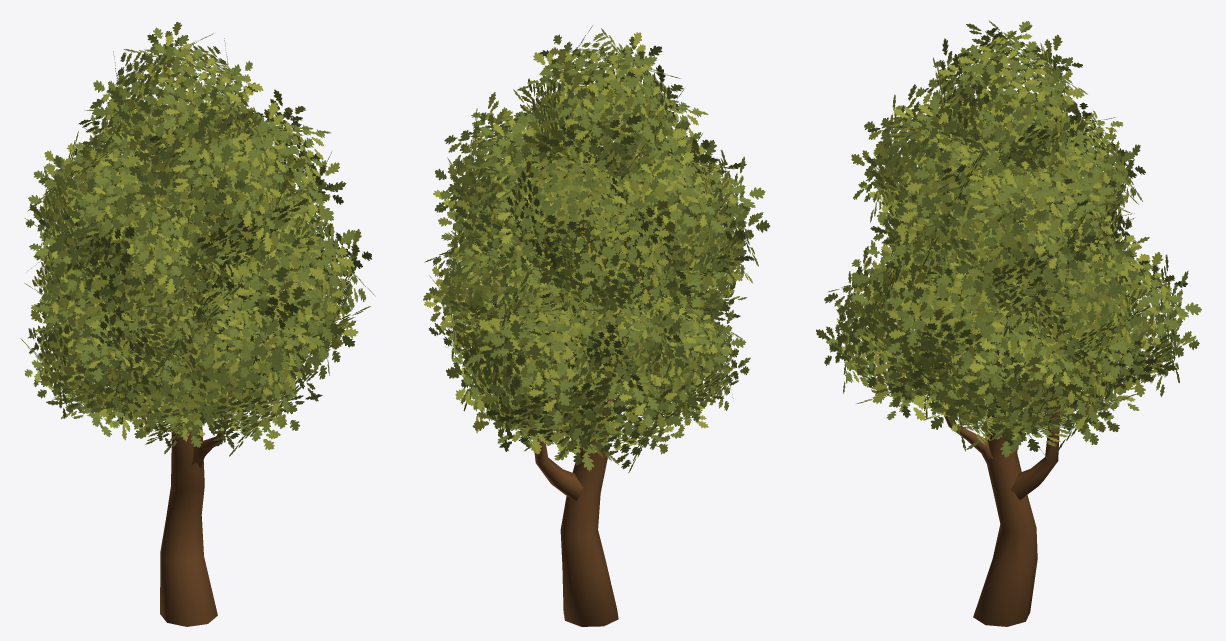
Rendered from Oak_Tree_2.fbx.
3 renders of one model, left to right at view 1: azimuth 30°, elevation 25°; view 2: azimuth 150°, elevation 25°; view 3: azimuth 270°, elevation 25°, orthographic.
Parts seen in each view (by area): view 1: Oak_Tree_2; view 2: Oak_Tree_2; view 3: Oak_Tree_2.
Boxes of the visible parts, x1,y1,x2,y2 form: Oak_Tree_2: (20,22,375,626); Oak_Tree_2: (423,25,770,626); Oak_Tree_2: (816,20,1201,626).
Size of the model in its own units: 501 by 878 by 543.
2 materials, 2 textured.
